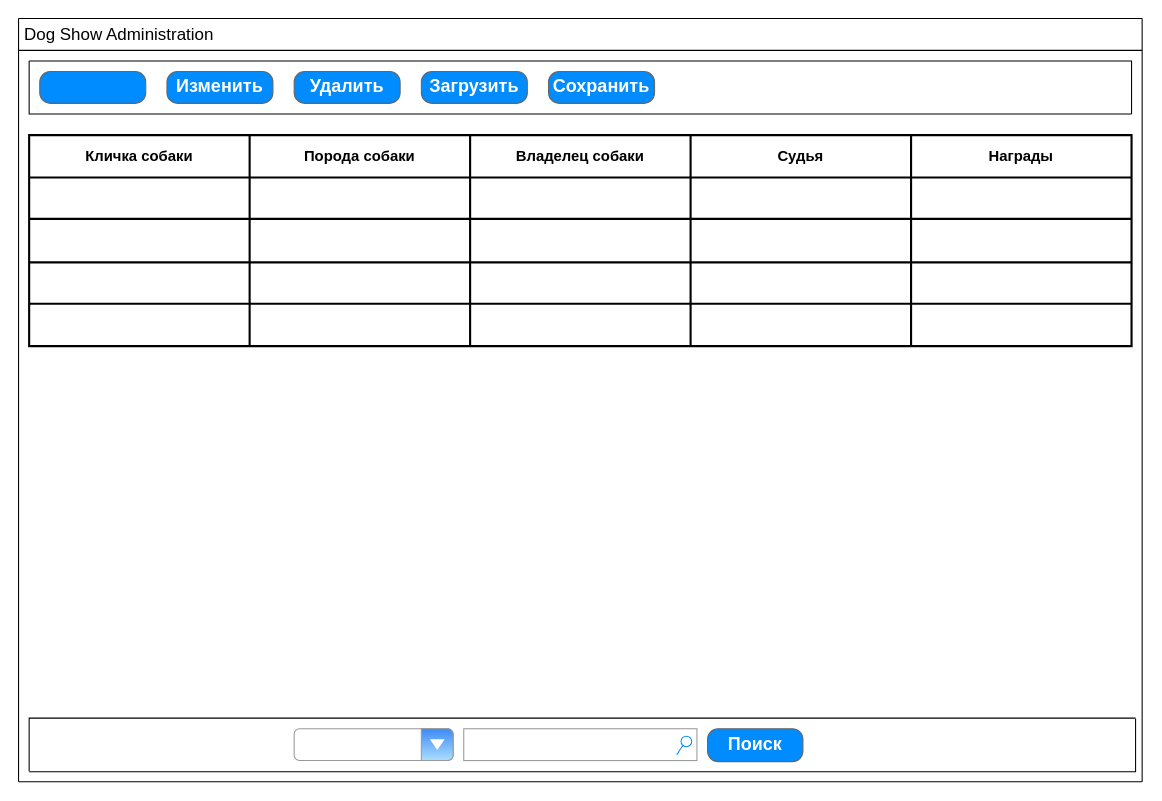
This 1162x801 diagram has some shape labels left out. Each missing label, with the centre of its shape:
"Search" belongs at (x=580, y=744).
"Добавить" belongs at (x=92, y=86).
